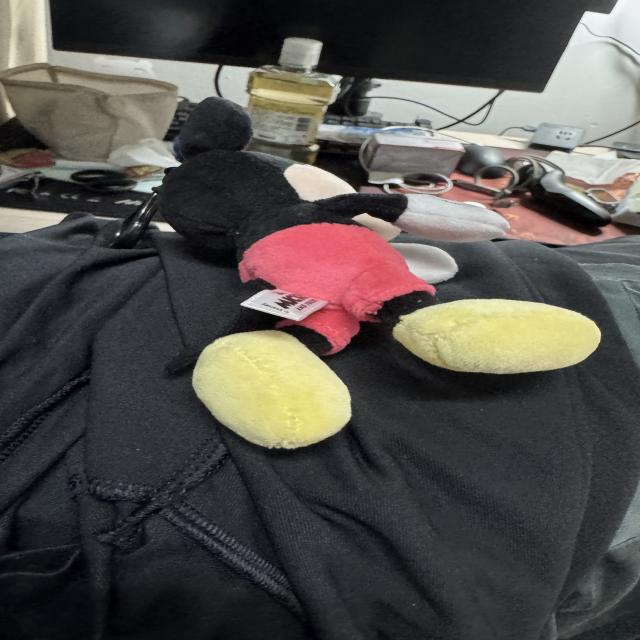mickey: (160, 98, 599, 447)
